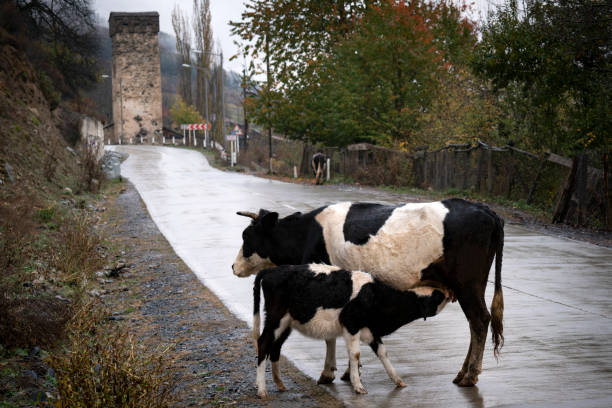inek: (228, 196, 511, 384), (243, 256, 440, 396)
